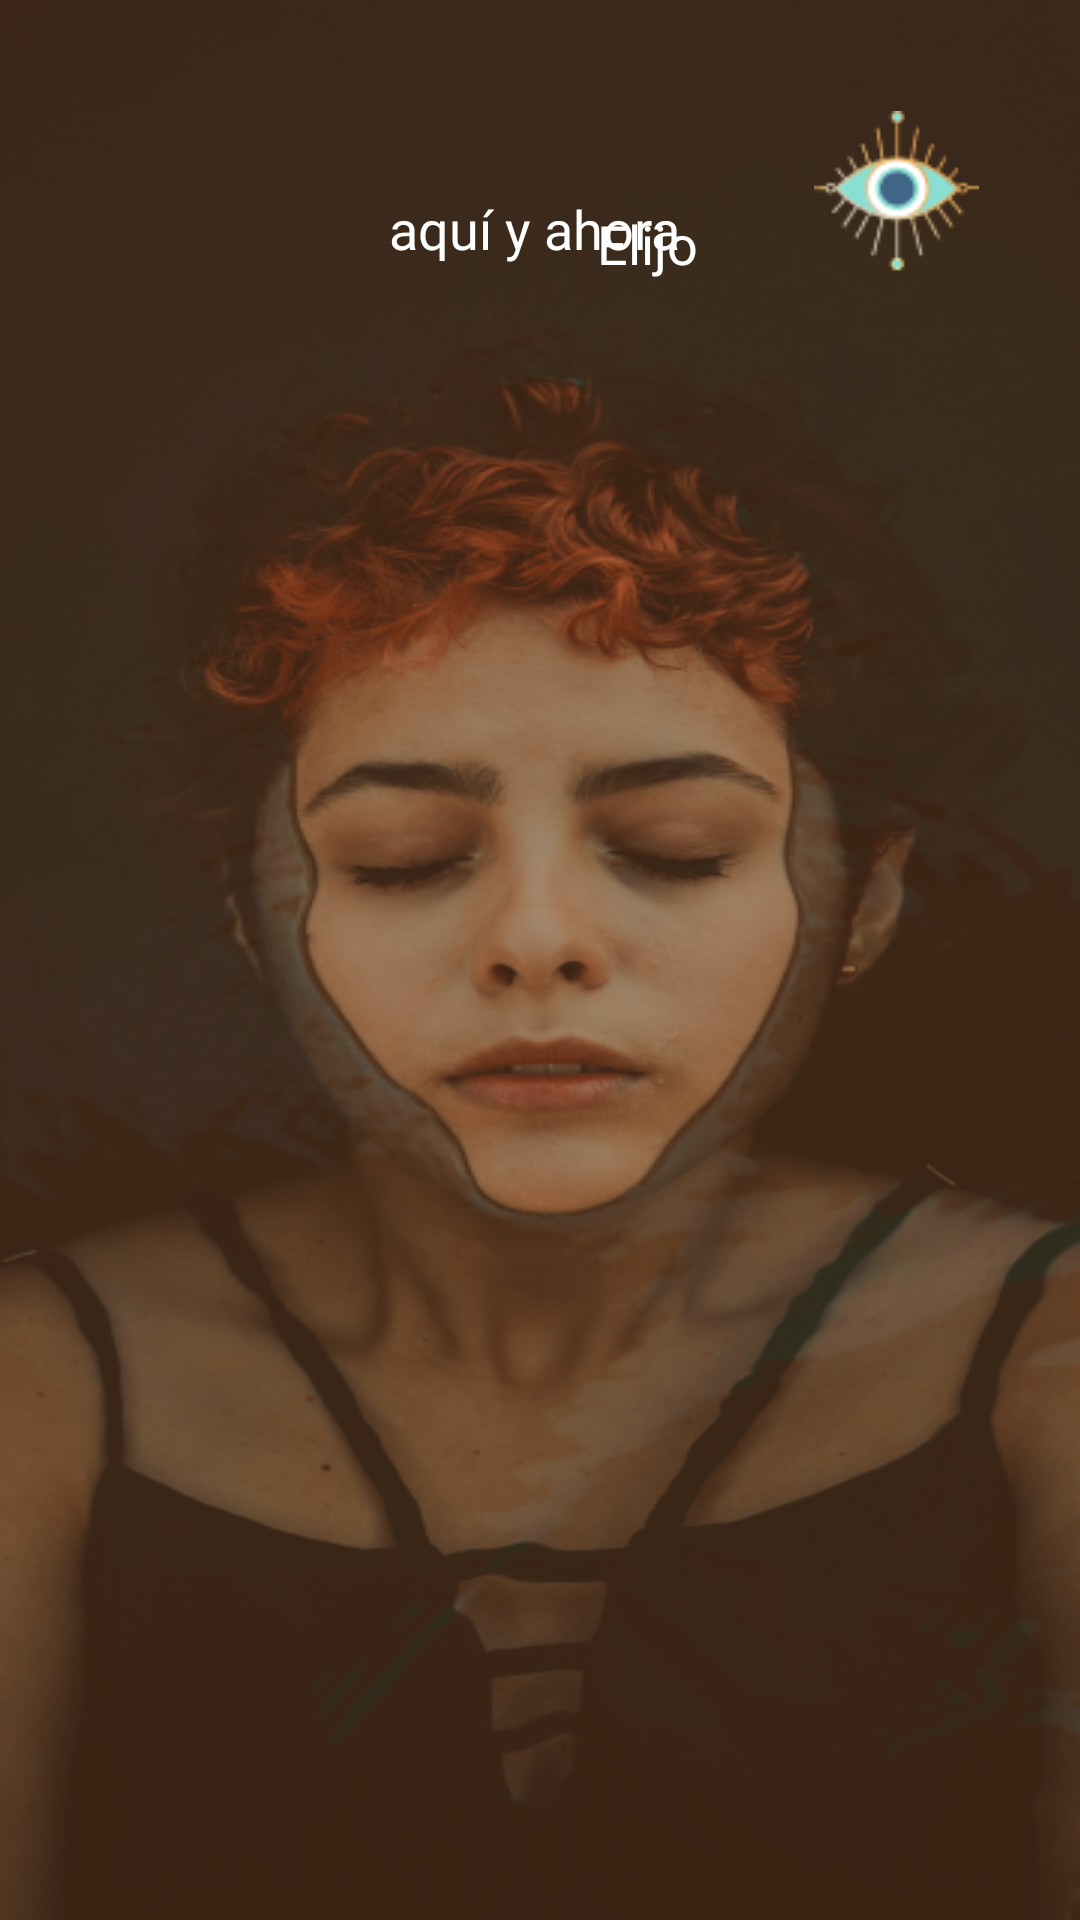

Where to tap for icons on this 1080*1920 app screen, as (x,y):
ojo centro: (896,191)
